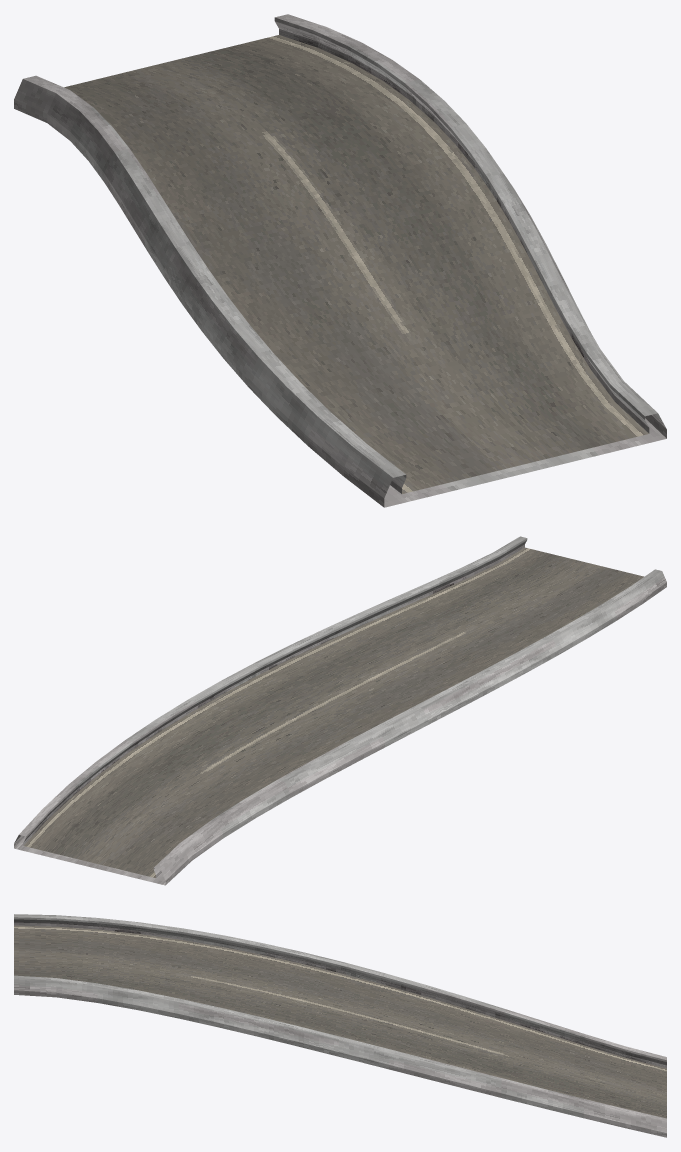
The model's file is chicane-right1x4.glb.
3 renders of one model, top to bottom at view 1: azimuth 30°, elevation 25°; view 2: azimuth 150°, elevation 25°; view 3: azimuth 270°, elevation 25°, orthographic. The views are drawn at different scales.
Visible parts, largest first — view 1: road-Chicane-Flat-BiSlopeDown-Down2-Right1-Size4; view 2: road-Chicane-Flat-BiSlopeDown-Down2-Right1-Size4; view 3: road-Chicane-Flat-BiSlopeDown-Down2-Right1-Size4.
Boxes of the visible parts, x1=… form: road-Chicane-Flat-BiSlopeDown-Down2-Right1-Size4: x1=14, y1=14, x2=666, y2=507; road-Chicane-Flat-BiSlopeDown-Down2-Right1-Size4: x1=14, y1=536, x2=666, y2=885; road-Chicane-Flat-BiSlopeDown-Down2-Right1-Size4: x1=14, y1=914, x2=666, y2=1137.
Size of the model in its own units: 2 by 0.5938 by 4.
Materials: 2 (2 with a texture image).
